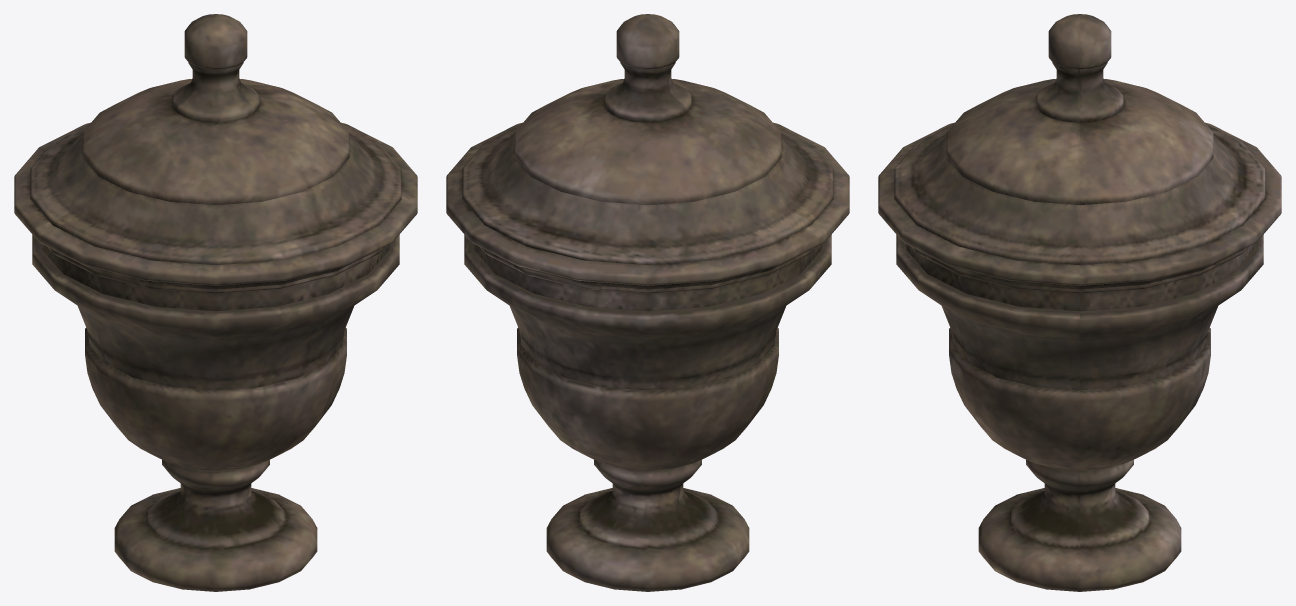
Rendered from SM_urn_03.fbx.
3 views of the same model, side by side, from view 1: azimuth 30°, elevation 25°; view 2: azimuth 150°, elevation 25°; view 3: azimuth 270°, elevation 25° (orthographic).
Visible parts, largest first — view 1: SM_urn_03; view 2: SM_urn_03; view 3: SM_urn_03.
Part boxes in pixels (x1,y1,x2,y2): SM_urn_03: (14, 14, 417, 591); SM_urn_03: (446, 14, 849, 591); SM_urn_03: (878, 14, 1281, 591).
Bounding box in the file's own units: 31.49 × 45.59 × 31.01.
